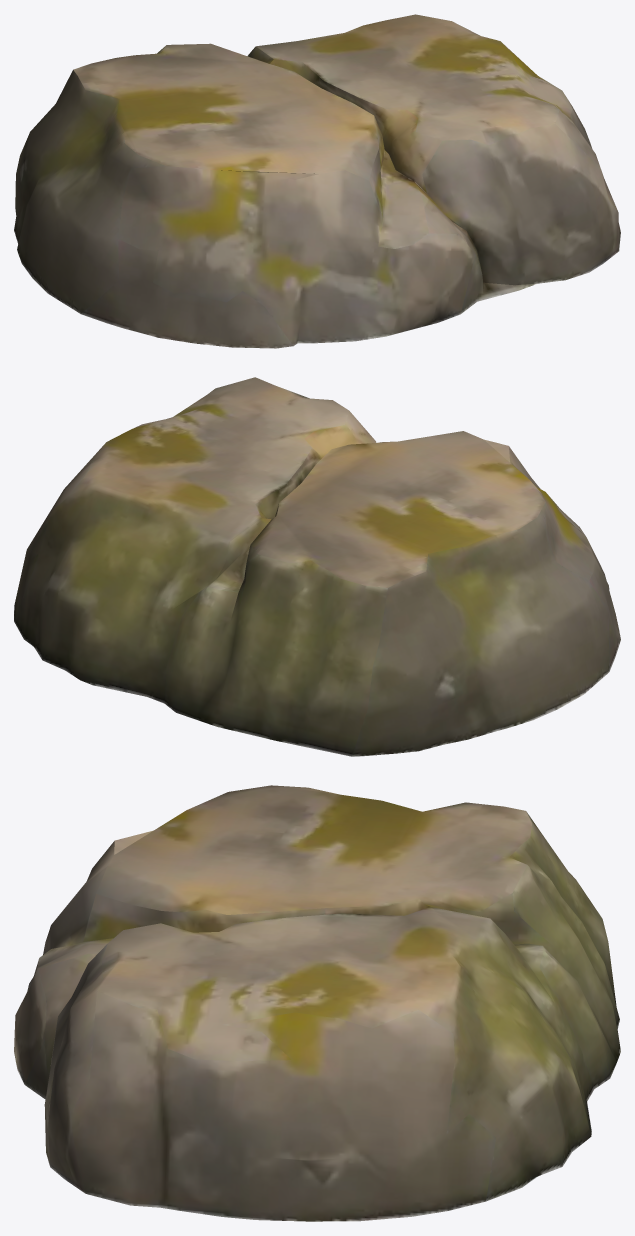
File: boulder-3.phone.glb
3 renders of one model, top to bottom at view 1: azimuth 30°, elevation 25°; view 2: azimuth 150°, elevation 25°; view 3: azimuth 270°, elevation 25°, orthographic. The views are drawn at different scales.
Parts seen in each view (by area): view 1: boulder-3.raw; view 2: boulder-3.raw; view 3: boulder-3.raw.
Part boxes in pixels (bbox=[...]): boulder-3.raw: bbox=[14, 14, 620, 348]; boulder-3.raw: bbox=[14, 377, 620, 756]; boulder-3.raw: bbox=[14, 785, 620, 1221].
Size of the model in its own units: 3.11 by 0.797 by 2.58.
1 material, 1 textured.
